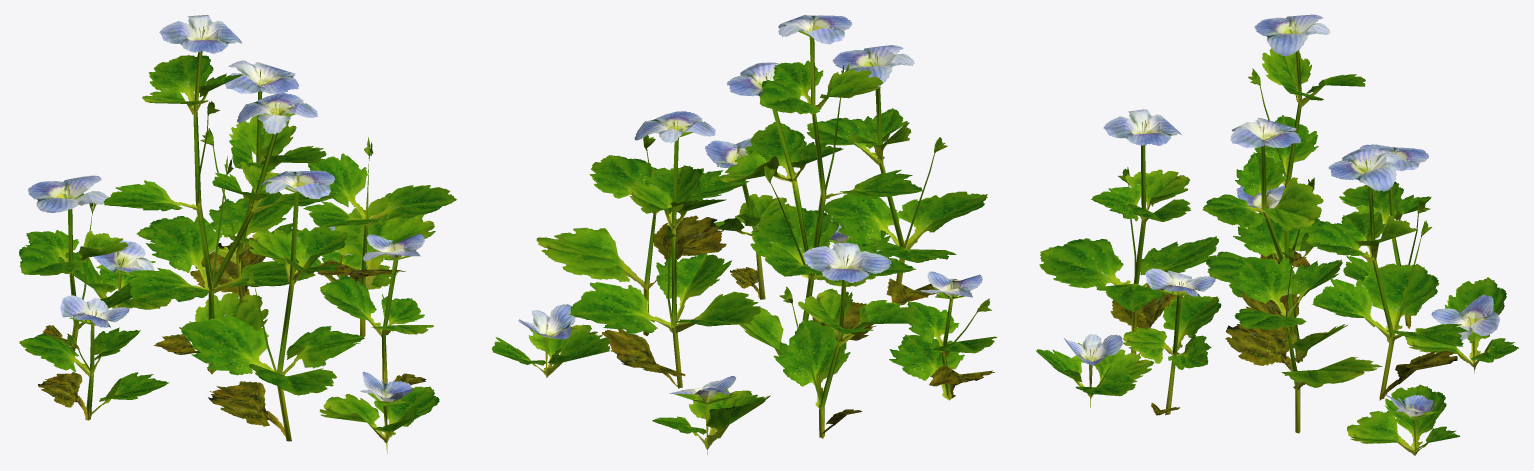
The model's file is LargeFigwort.obj.
The picture shows the model from 3 angles, left to right: view 1: azimuth 30°, elevation 25°; view 2: azimuth 150°, elevation 25°; view 3: azimuth 270°, elevation 25°; orthographic projection. The views are drawn at different scales.
Parts seen in each view (by area): view 1: Mesh_0386, Mesh_0387, Mesh_0388; view 2: Mesh_0386, Mesh_0387, Mesh_0388; view 3: Mesh_0386, Mesh_0387, Mesh_0388.
Part boxes in pixels (box(x1,y1,x2,y2)): Mesh_0386: box(19, 60, 457, 436); Mesh_0387: box(19, 15, 439, 453); Mesh_0388: box(154, 170, 364, 441); Mesh_0386: box(536, 111, 997, 454); Mesh_0387: box(492, 15, 923, 438); Mesh_0388: box(739, 45, 987, 356); Mesh_0386: box(1110, 148, 1518, 433); Mesh_0387: box(1035, 14, 1460, 455); Mesh_0388: box(1039, 109, 1347, 362).
Bounding box in the file's own units: 1.26 × 1.02 × 1.27.
Materials: 1 (1 with a texture image).
